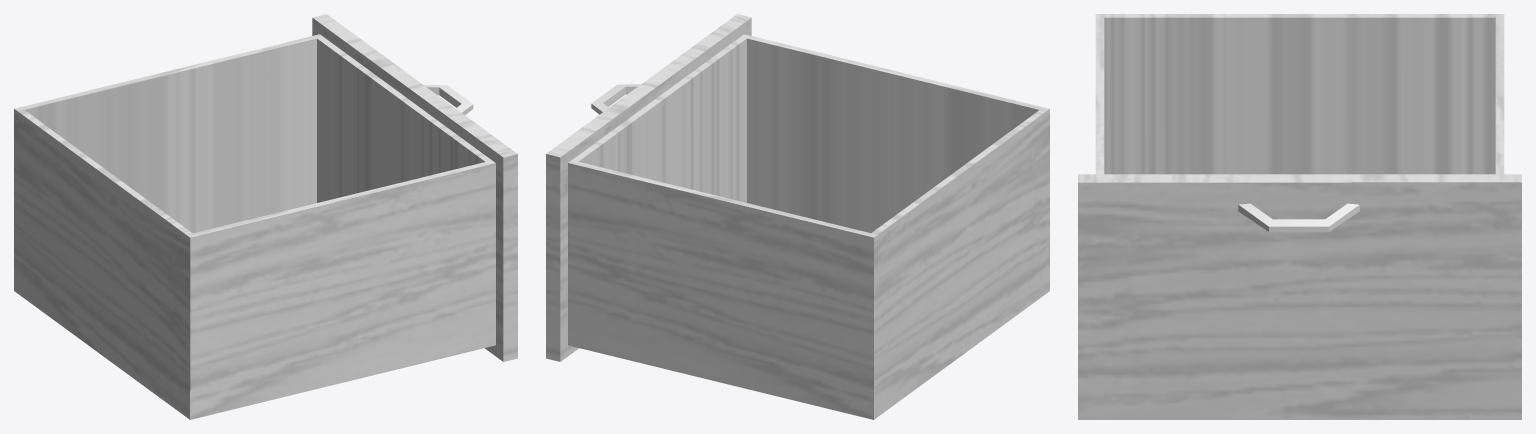
Rendered from Drawer_241ff470.obj.
3 views of the same model, side by side, from view 1: azimuth 30°, elevation 25°; view 2: azimuth 150°, elevation 25°; view 3: azimuth 270°, elevation 25° (orthographic). The views are drawn at different scales.
Visible parts, largest first — view 1: FP421:Door_01_3098b4b5; view 2: FP421:Door_01_3098b4b5; view 3: FP421:Door_01_3098b4b5.
Boxes of the visible parts, bbox=[...] form: FP421:Door_01_3098b4b5: bbox=[14, 14, 517, 419]; FP421:Door_01_3098b4b5: bbox=[546, 14, 1049, 419]; FP421:Door_01_3098b4b5: bbox=[1078, 14, 1521, 419].
Size of the model in its own units: 0.5483 by 0.2996 by 0.5075.
